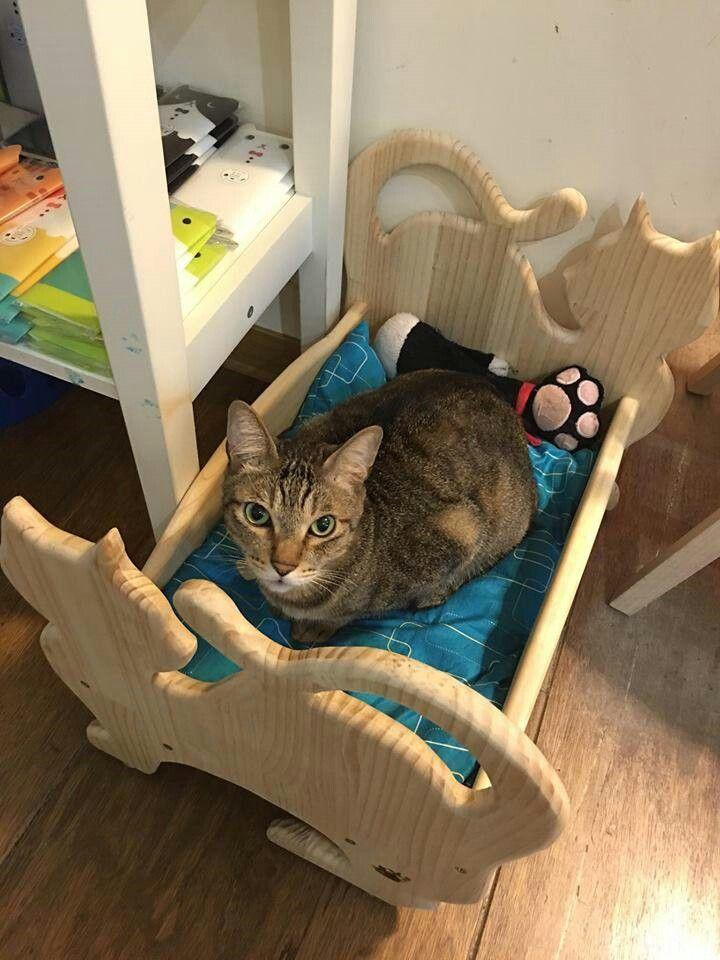kedo: (228, 366, 542, 645)
